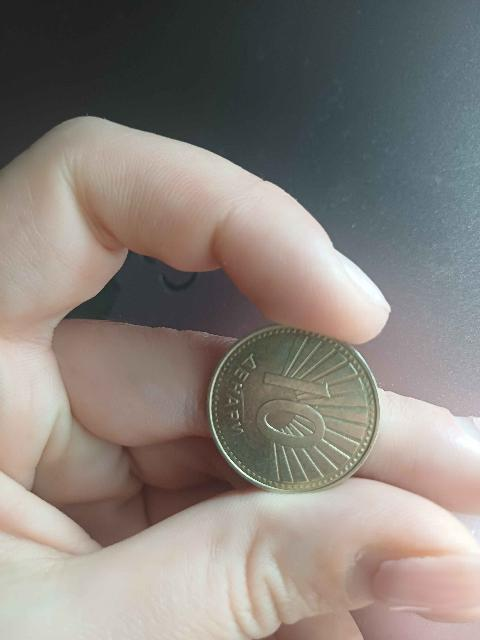10_coin: (208, 326, 379, 491)
